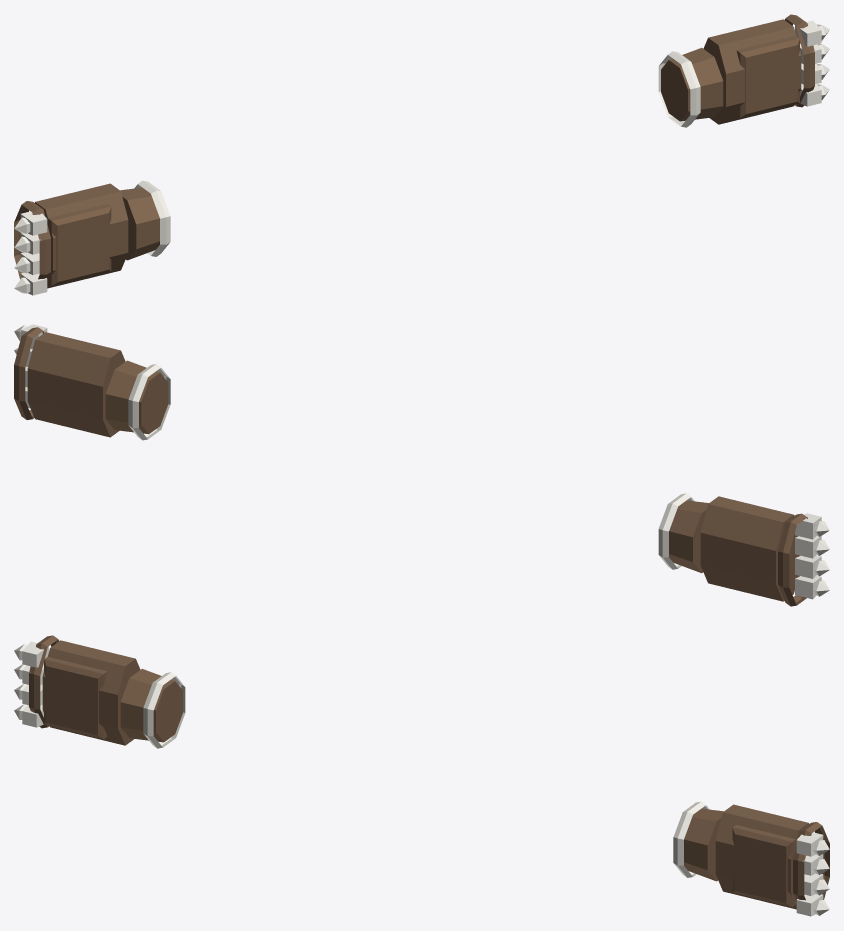
The model's file is boneknuckles.glb.
The picture shows the model from 3 angles, top to bottom: view 1: azimuth 30°, elevation 25°; view 2: azimuth 150°, elevation 25°; view 3: azimuth 330°, elevation 25°; orthographic projection.
Visible parts, largest first — view 1: Fist1L, Fist1R, LowerArmL, Fist2R, LowerArmR, Fist2L; view 2: Fist1L, Fist1R, LowerArmL, Fist2R, LowerArmR, Fist2L; view 3: Fist1R, Fist1L, LowerArmR, Fist2L, LowerArmL, Fist2R.
Boxes of the visible parts, x1,y1,x2,y2 form: Fist1L: (703, 19, 801, 124); Fist1R: (35, 183, 128, 288); LowerArmL: (658, 47, 723, 127); Fist2R: (14, 201, 50, 295); LowerArmR: (120, 180, 170, 260); Fist2L: (785, 14, 829, 107); Fist1L: (27, 332, 125, 437); Fist1R: (700, 496, 799, 601); LowerArmL: (105, 360, 170, 440); Fist2R: (778, 513, 829, 606); LowerArmR: (658, 493, 708, 573); Fist2L: (14, 324, 47, 419); Fist1R: (42, 640, 140, 745); Fist1L: (715, 804, 808, 909); LowerArmR: (120, 668, 185, 748); Fist2L: (793, 822, 829, 916); LowerArmL: (673, 801, 723, 881); Fist2R: (14, 635, 58, 728).
Size of the model in its own units: 3.14 by 0.3119 by 0.2244.
